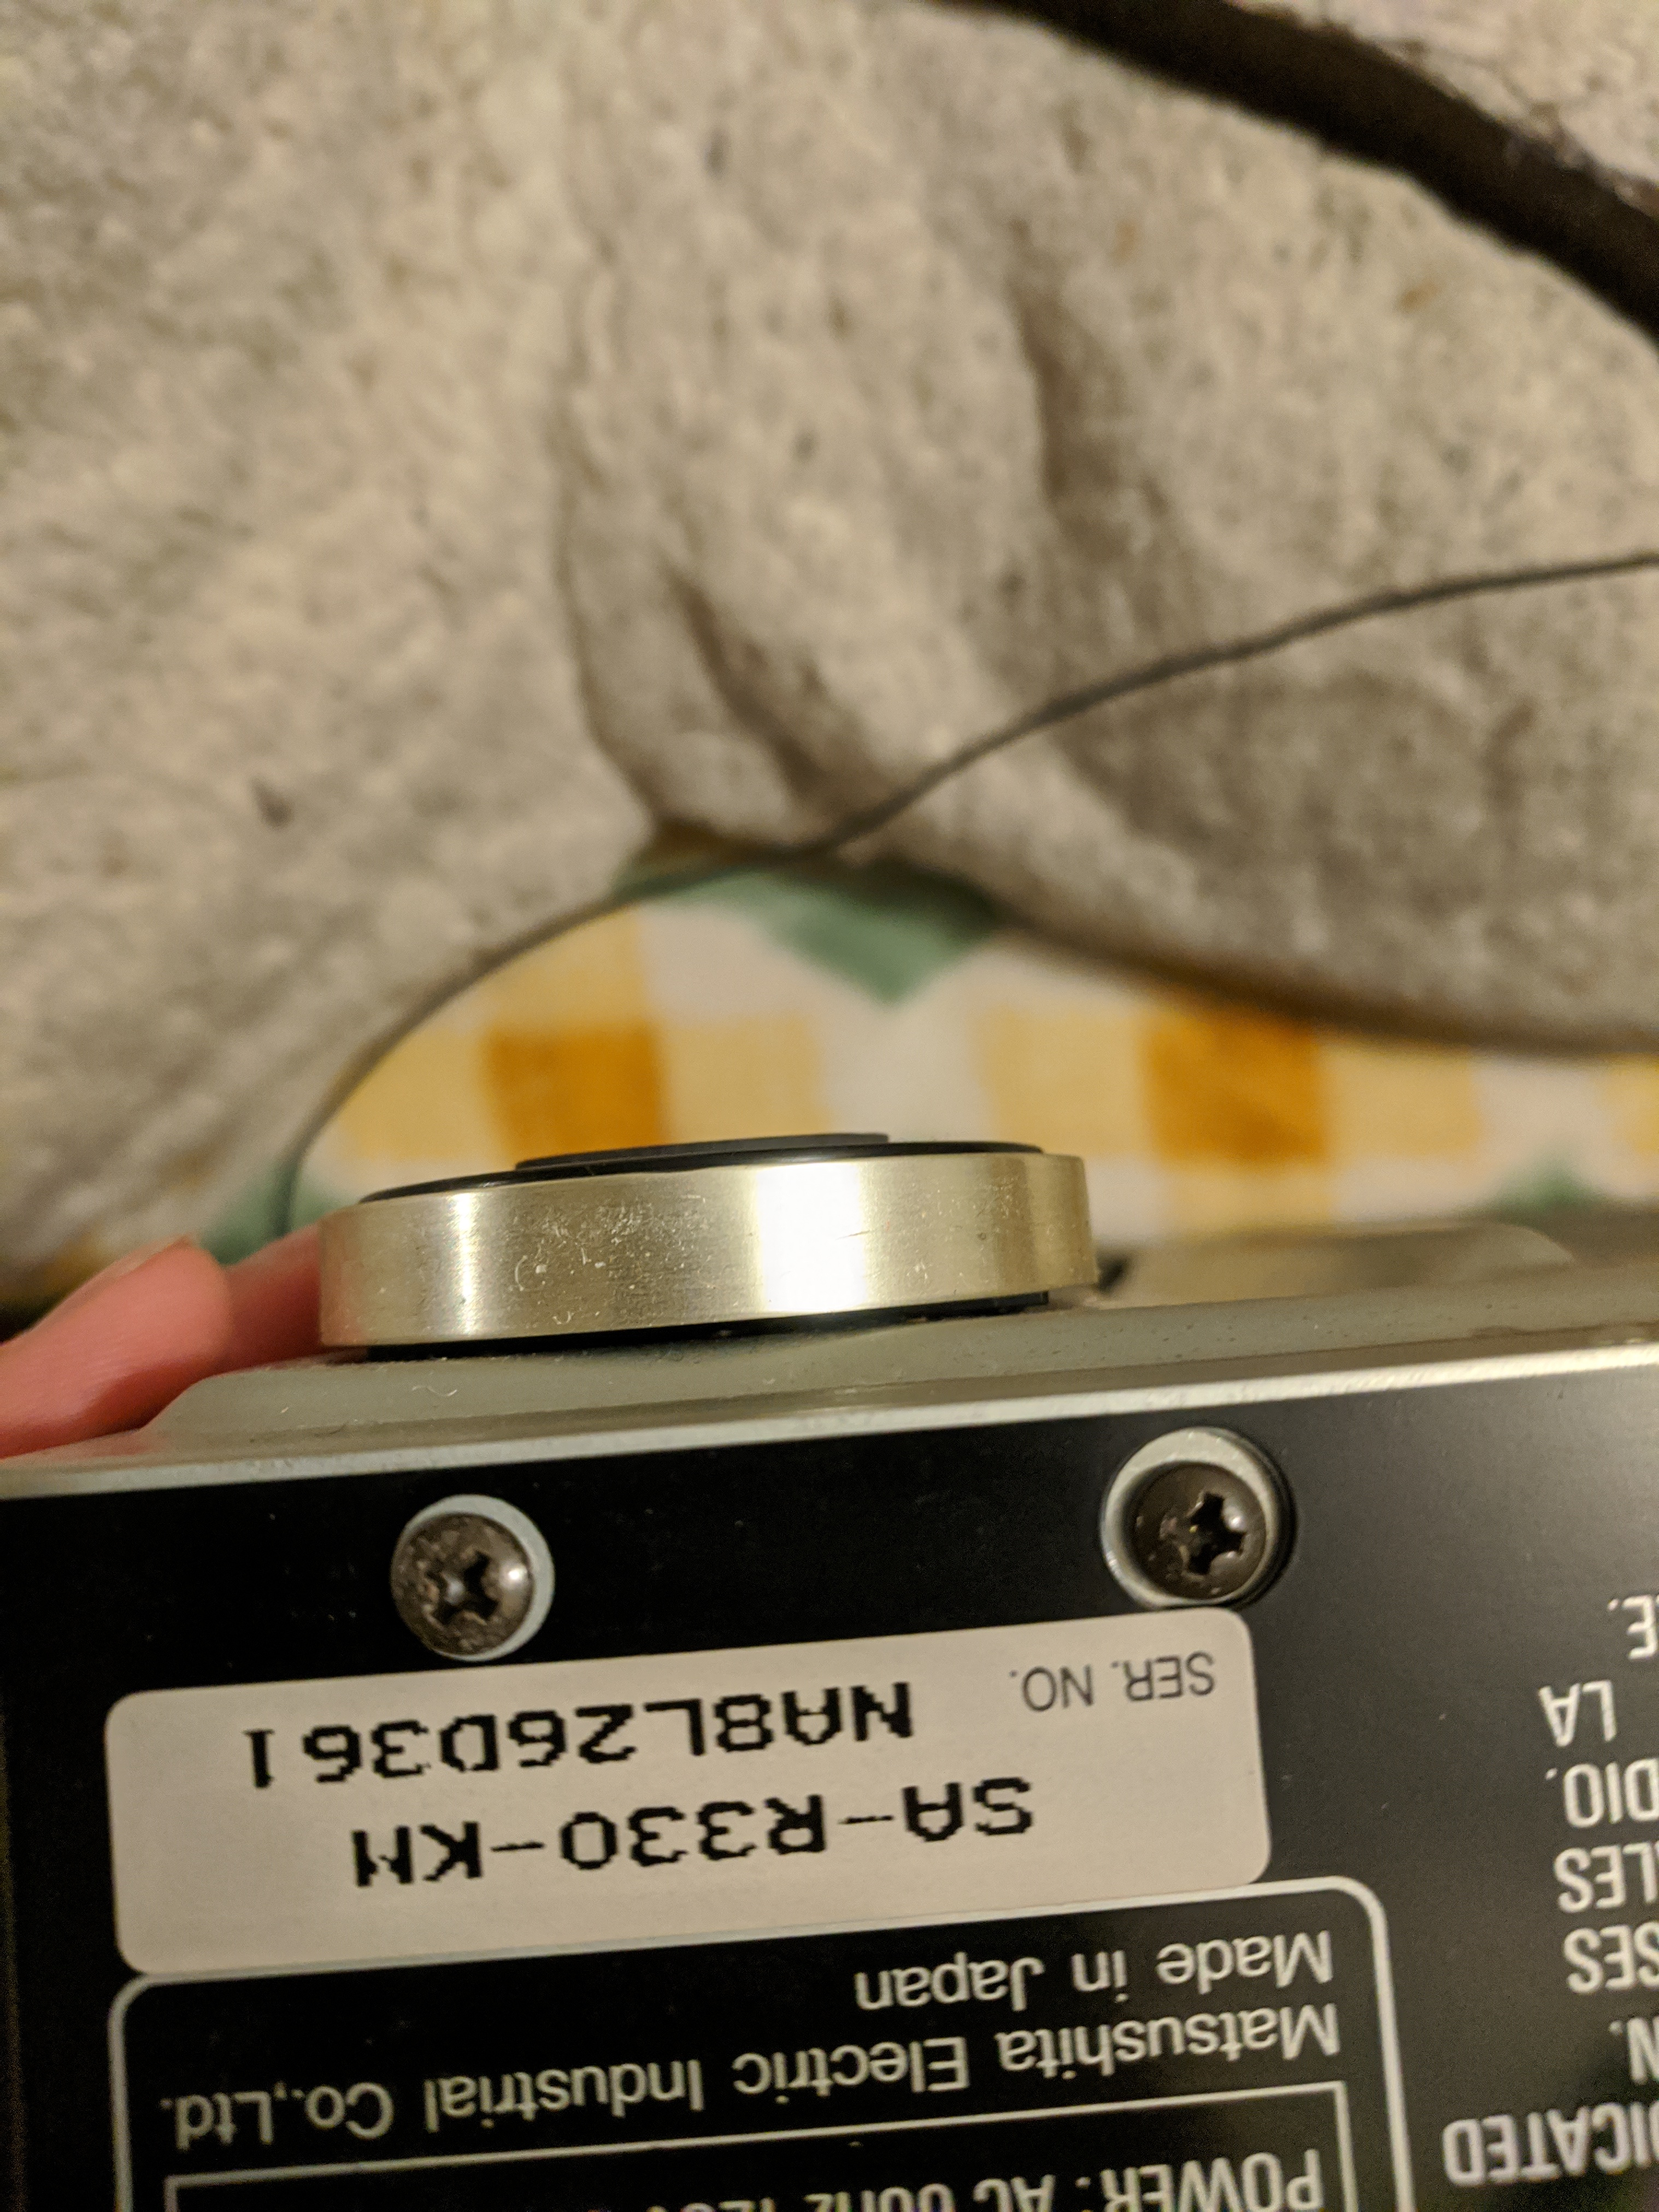cross_recessed_screw: (1119, 1453, 1283, 1597), (385, 1501, 533, 1649)
